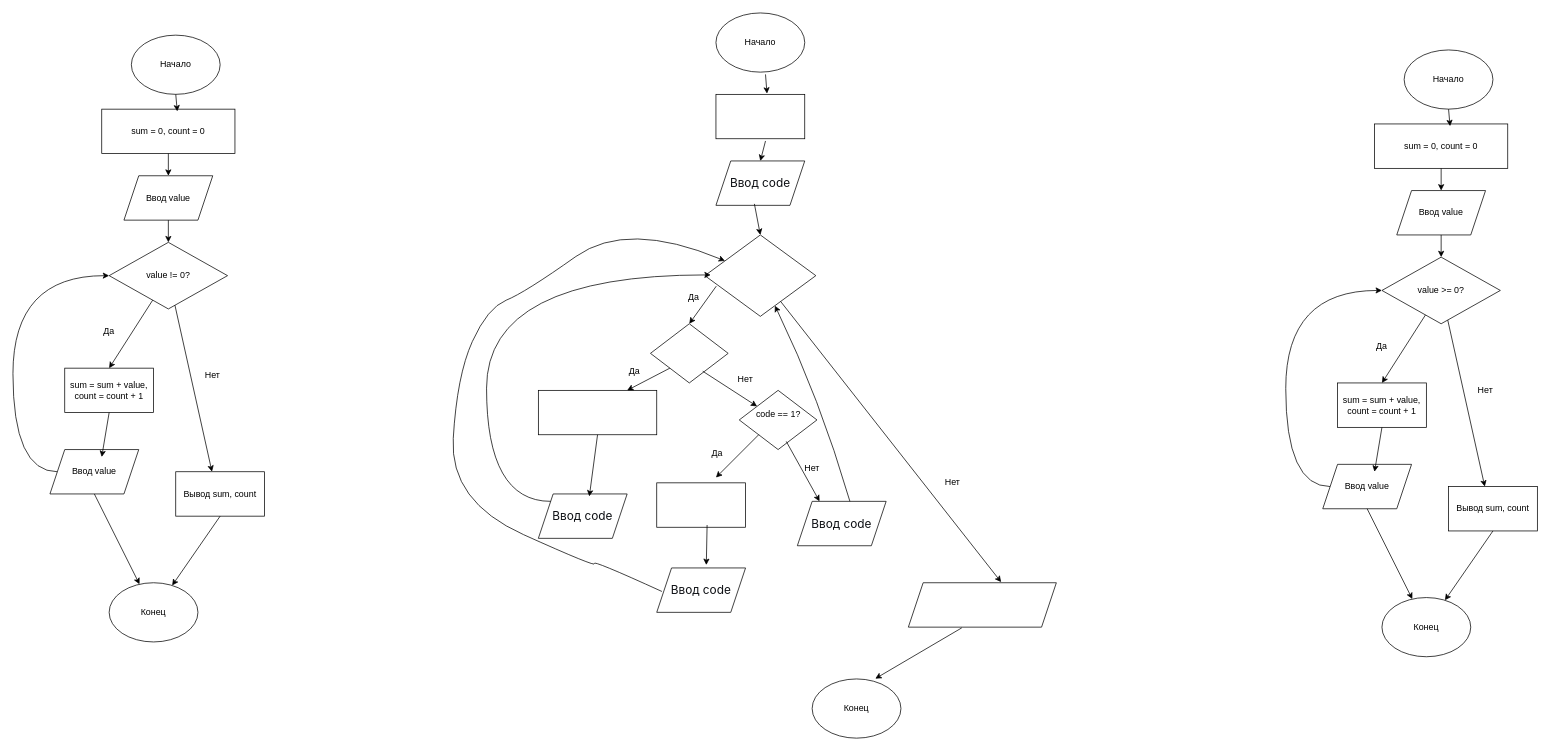
The diagram is 1550 pixels wide and 751 high, and some of its shapes have lost their labels. Each missing label, with the centre of its shape:
"code != 999?" belongs at [760,275].
"code == 2?" belongs at [689,353].
"errors = 0, warnings = 0" belongs at [760,116].
"errors = errors + 1" belongs at [597,412].
"warnings = warnings + 1" belongs at [701,504].
"Вывод errors, warnings" belongs at [982,604].
